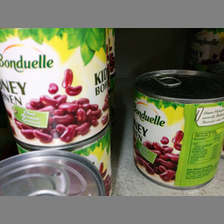beans: (1, 28, 106, 143), (132, 69, 224, 189)
